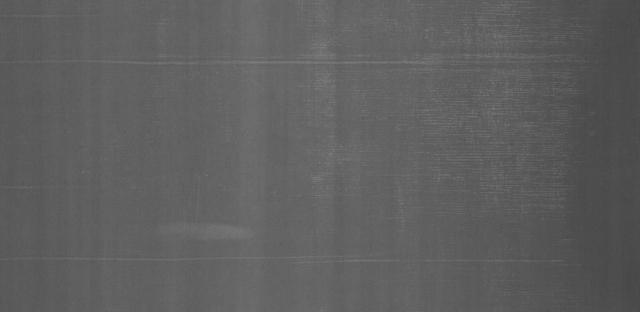waist_folding: (46, 11, 590, 302)
